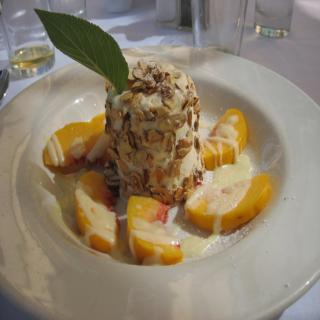Ice cream: (104, 58, 207, 206)
